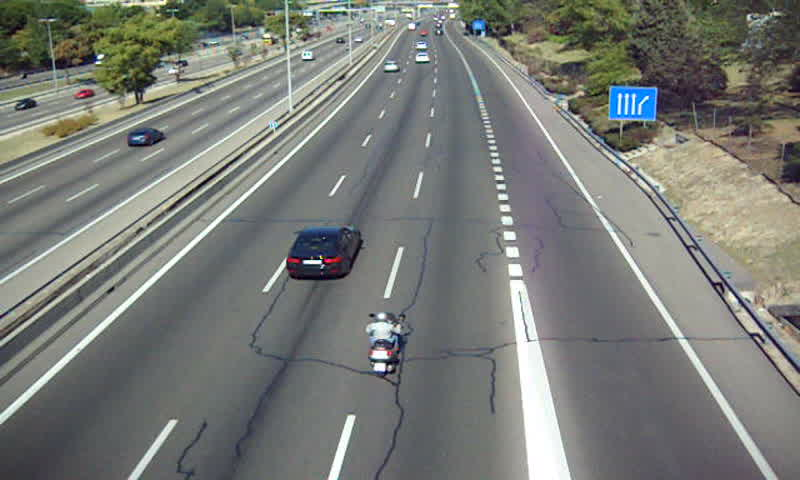car: (285, 225, 362, 278), (413, 52, 432, 64), (383, 59, 398, 73)
motorcycle: (364, 309, 407, 376)
